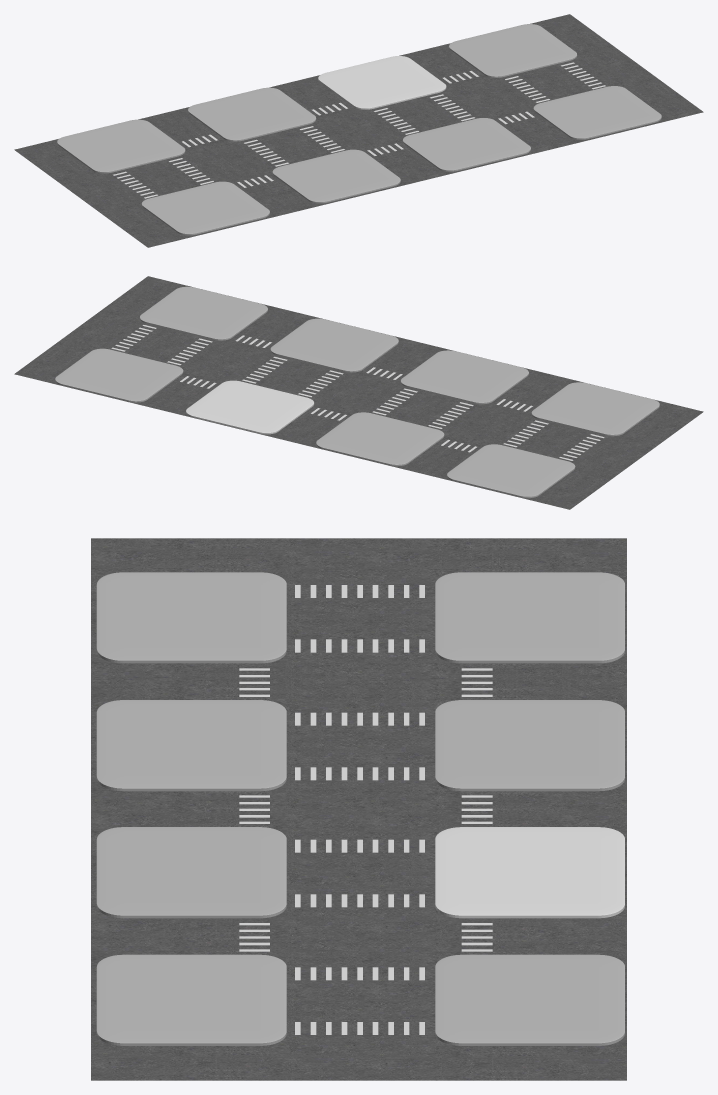
Rendered from road.glb.
The picture shows the model from 3 angles, top to bottom: view 1: azimuth 30°, elevation 25°; view 2: azimuth 150°, elevation 25°; view 3: azimuth 270°, elevation 25°; orthographic projection. The views are drawn at different scales.
Parts seen in each view (by area): view 1: 平面.047, 立方体.009, 立方体.010, 立方体.011, 立方体.012, 立方体.014, 立方体.015, 立方体.016, 立方体.013; view 2: 平面.047, 立方体.014, 立方体.015, 立方体.013, 立方体.016, 立方体.010, 立方体.009, 立方体.012, 立方体.011; view 3: 平面.047, 立方体.011, 立方体.013, 立方体.009, 立方体.015, 立方体.012, 立方体.014, 立方体.016, 立方体.010.
Part boxes in pixels (x1=…): 平面.047: x1=14, y1=14, x2=703, y2=247; 立方体.009: x1=272, y1=149, x2=400, y2=203; 立方体.010: x1=188, y1=87, x2=316, y2=141; 立方体.011: x1=141, y1=181, x2=269, y2=235; 立方体.012: x1=57, y1=119, x2=185, y2=173; 立方体.014: x1=318, y1=56, x2=446, y2=109; 立方体.015: x1=533, y1=86, x2=661, y2=139; 立方体.016: x1=449, y1=24, x2=577, y2=77; 立方体.013: x1=402, y1=118, x2=530, y2=171; 平面.047: x1=14, y1=276, x2=703, y2=509; 立方体.014: x1=186, y1=380, x2=314, y2=434; 立方体.015: x1=139, y1=286, x2=267, y2=340; 立方体.013: x1=270, y1=318, x2=398, y2=372; 立方体.016: x1=55, y1=348, x2=183, y2=402; 立方体.010: x1=316, y1=412, x2=444, y2=466; 立方体.009: x1=400, y1=350, x2=528, y2=404; 立方体.012: x1=447, y1=444, x2=575, y2=497; 立方体.011: x1=531, y1=382, x2=659, y2=436; 平面.047: x1=91, y1=538, x2=626, y2=1080; 立方体.011: x1=96, y1=572, x2=286, y2=663; 立方体.013: x1=96, y1=827, x2=286, y2=918; 立方体.009: x1=96, y1=700, x2=286, y2=791; 立方体.015: x1=96, y1=954, x2=286, y2=1045; 立方体.012: x1=435, y1=572, x2=624, y2=663; 立方体.014: x1=435, y1=827, x2=624, y2=918; 立方体.016: x1=435, y1=954, x2=624, y2=1045; 立方体.010: x1=435, y1=700, x2=624, y2=791.
Bounding box in the file's own units: 106 × 0.3545 × 44.21.
9 materials, 1 textured.
